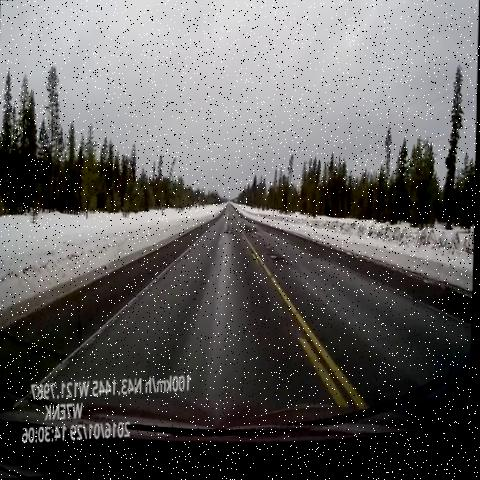pothole: (245, 227, 264, 248), (266, 252, 283, 273), (223, 226, 238, 243), (224, 212, 239, 229)
